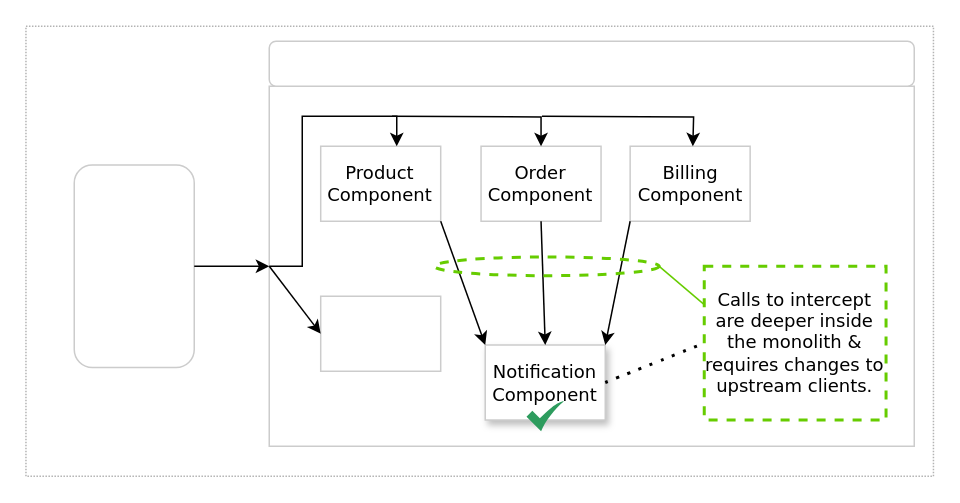
The diagram is 960 pixels wide and 503 high, and some of its shapes have lost their labels. The shapes that lost their labels are listed below. From the top down, each one's centre as x and y in pixels, then its label:
At (x=591, y=63): "Back End - Monolith".
At (x=133, y=266): "Front End (e.g. Web)".
At (x=380, y=333): "Invoicing Component".
